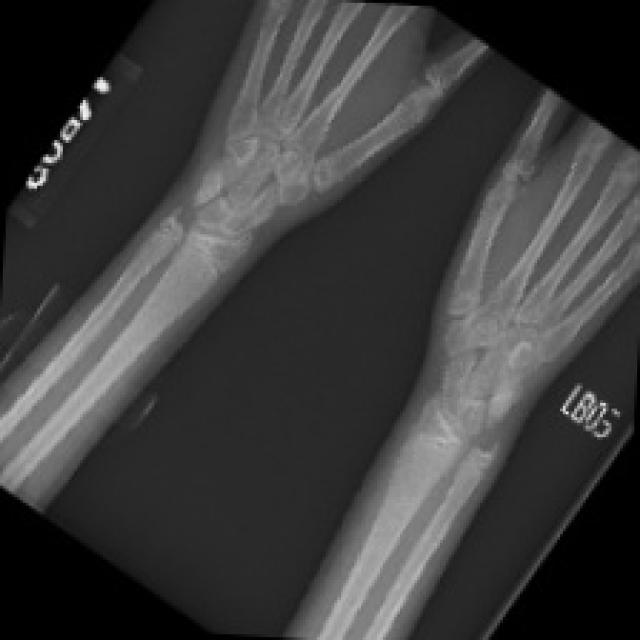fracture: (130, 158, 241, 268), (448, 399, 535, 487)
